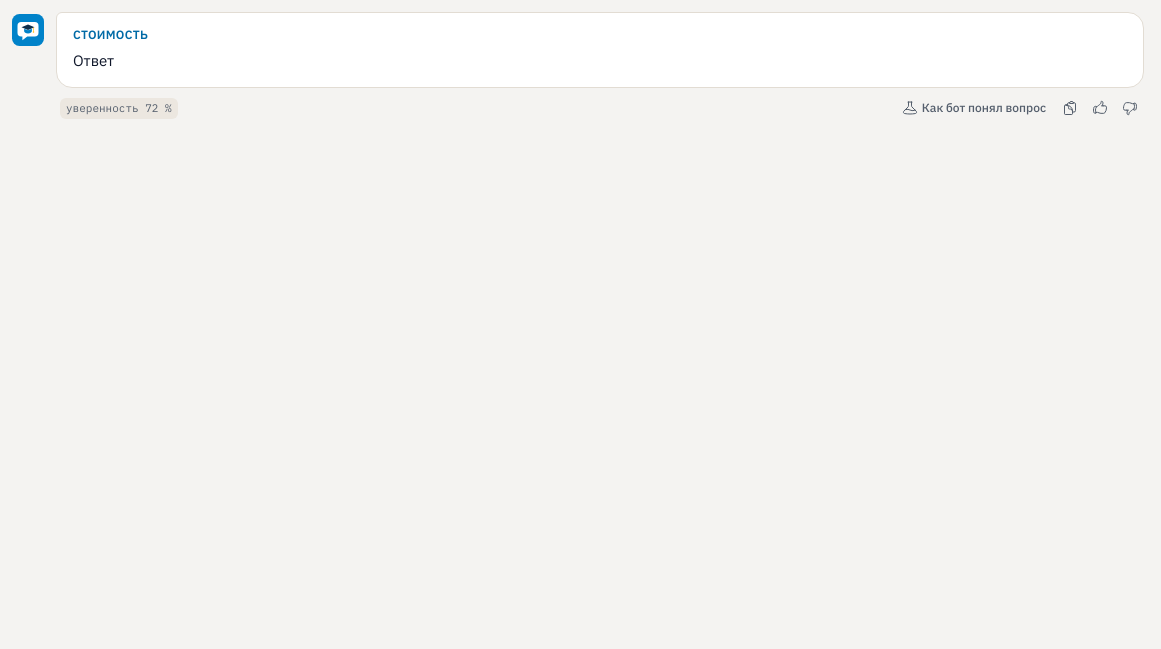
it: ChatBubble › opens the explanation of how the question was understood
The image size is (1161, 649).
Expected: the text "·Сколько" is not shown
Click the button "Как бот понял вопрос" at (974, 108), box [894,96,1054,120]
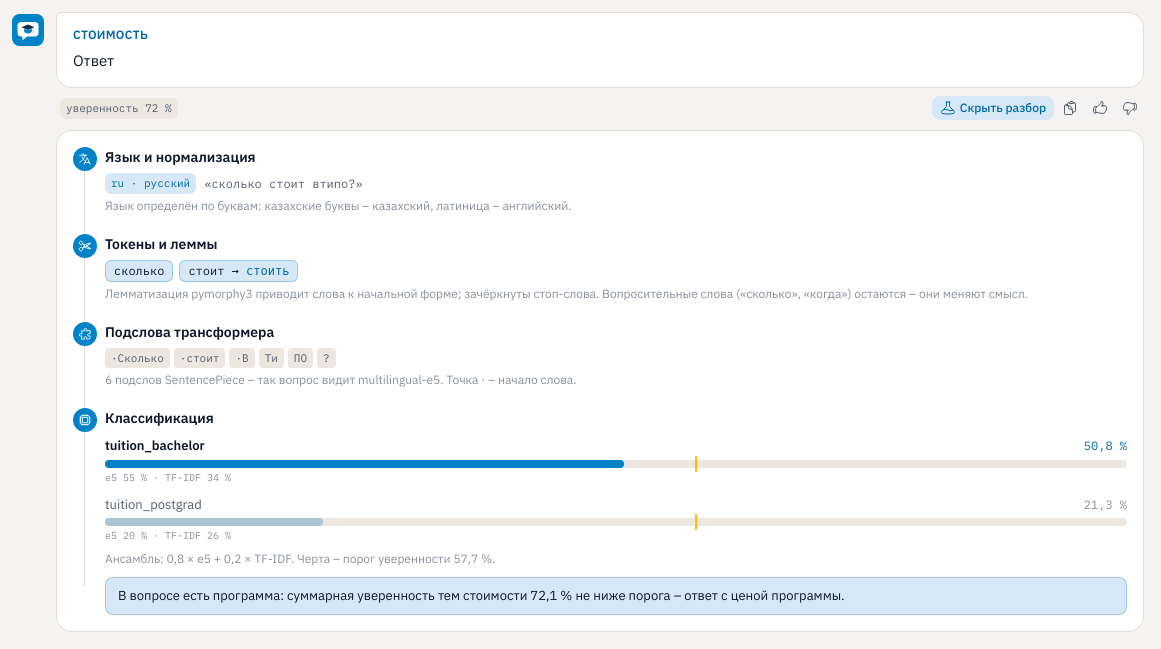
Expected: the text "·Сколько" is shown, [105,348,170,368]
Expected: the text "стоить" is shown, [246,263,289,278]
Expected: the text "суммарная уверенность" is shown, [118,587,845,604]
